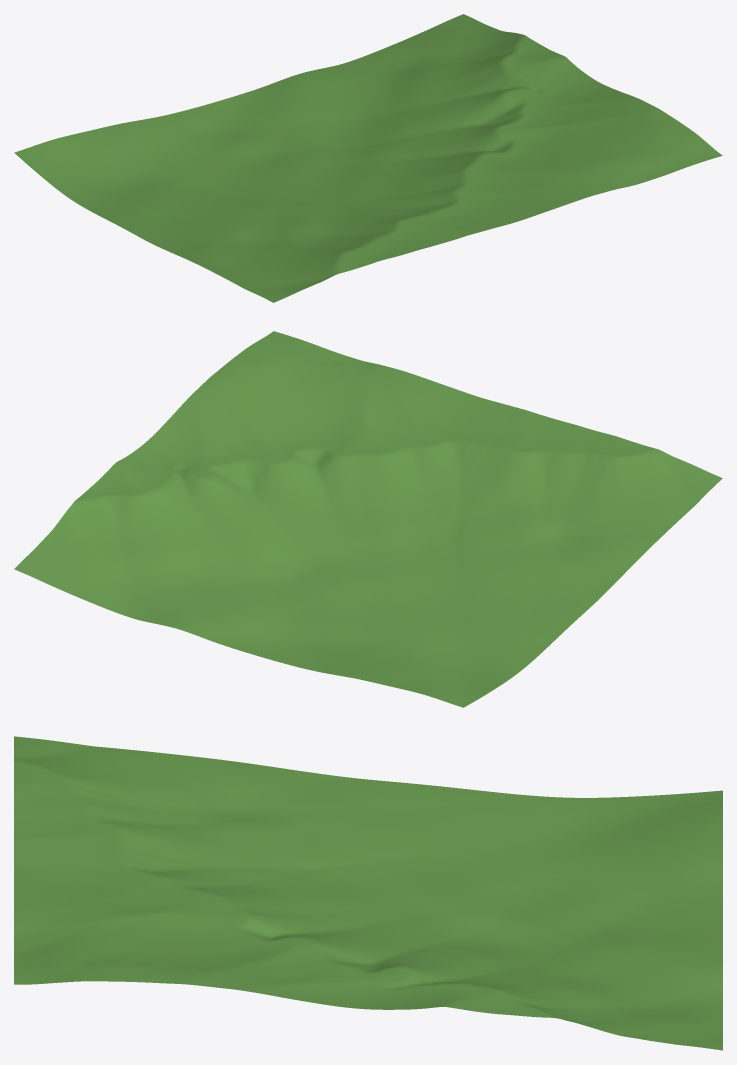
Rendered from SM_Terrain_02_01.fbx.
3 renders of one model, top to bottom at view 1: azimuth 30°, elevation 25°; view 2: azimuth 150°, elevation 25°; view 3: azimuth 270°, elevation 25°, orthographic. The views are drawn at different scales.
Parts seen in each view (by area): view 1: SM_Terrain_02_01; view 2: SM_Terrain_02_01; view 3: SM_Terrain_02_01.
Part boxes in pixels (x1,y1,x2,y2): SM_Terrain_02_01: (14,14,722,302); SM_Terrain_02_01: (14,331,722,707); SM_Terrain_02_01: (14,736,722,1050).
Size of the model in its own units: 384 by 69.61 by 384.
